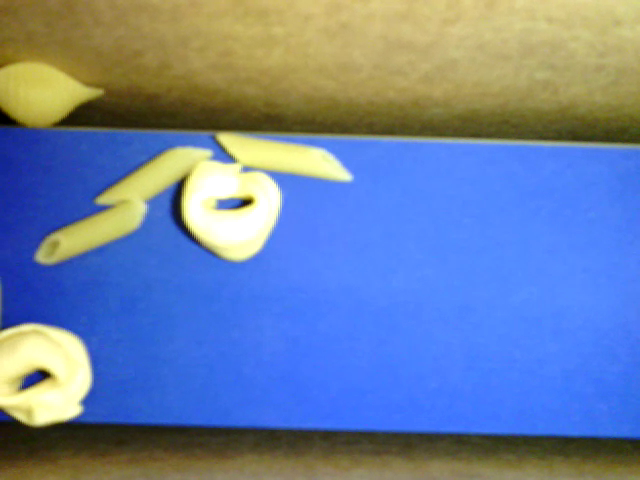penne: (34, 197, 148, 264), (92, 145, 212, 205), (216, 131, 353, 183)
shell: (1, 61, 105, 127)
tortellini: (179, 161, 283, 263), (1, 323, 93, 426)
